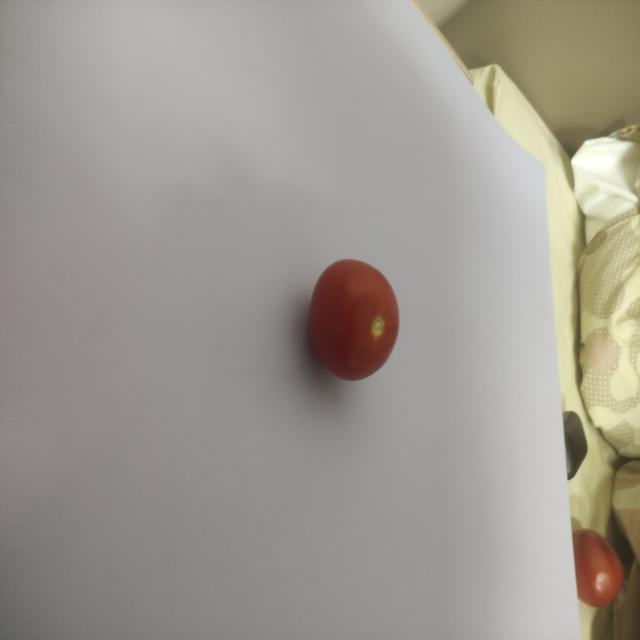kirmizi: (304, 239, 402, 402)
